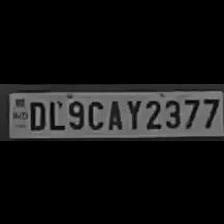2: (142, 96, 162, 130)
3: (162, 96, 180, 128)
7: (200, 94, 218, 128), (182, 94, 198, 128)
9: (64, 96, 84, 130)
A: (104, 96, 124, 130)
C: (84, 96, 104, 130)
D: (27, 97, 46, 129)
L: (46, 97, 64, 129)
Y: (123, 96, 141, 130)
